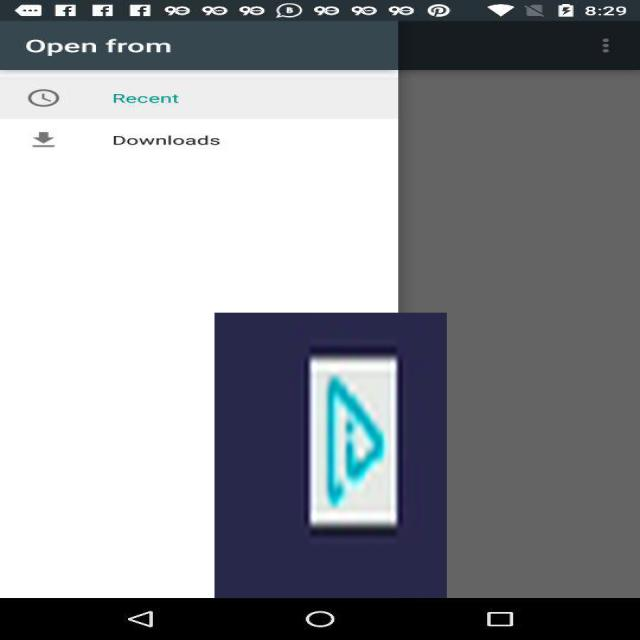sneaking: (214, 313, 447, 598)
